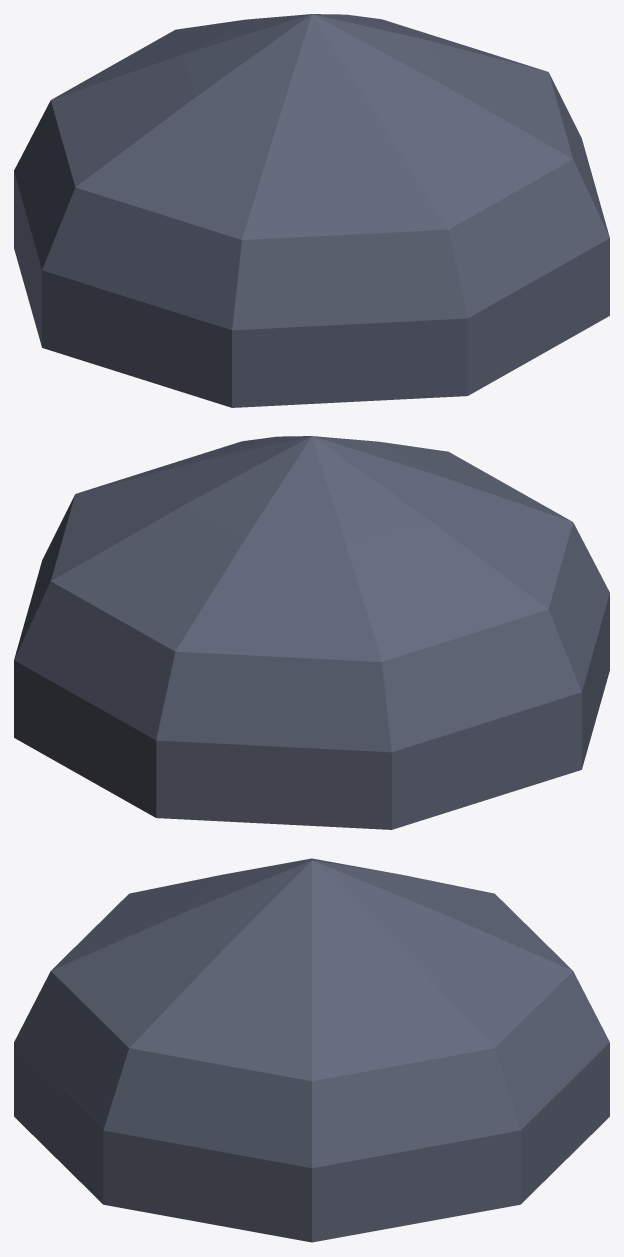
File: lightthing.fbx
3 views of the same model, one above another, from view 1: azimuth 30°, elevation 25°; view 2: azimuth 150°, elevation 25°; view 3: azimuth 270°, elevation 25° (orthographic). The views are drawn at different scales.
Visible parts, largest first — view 1: Cube; view 2: Cube; view 3: Cube.
Part boxes in pixels (<box>): Cube: <box>14,14,609,407</box>; Cube: <box>14,436,609,829</box>; Cube: <box>14,858,609,1242</box>.
Bounding box in the file's own units: 200 × 94.89 × 200.
